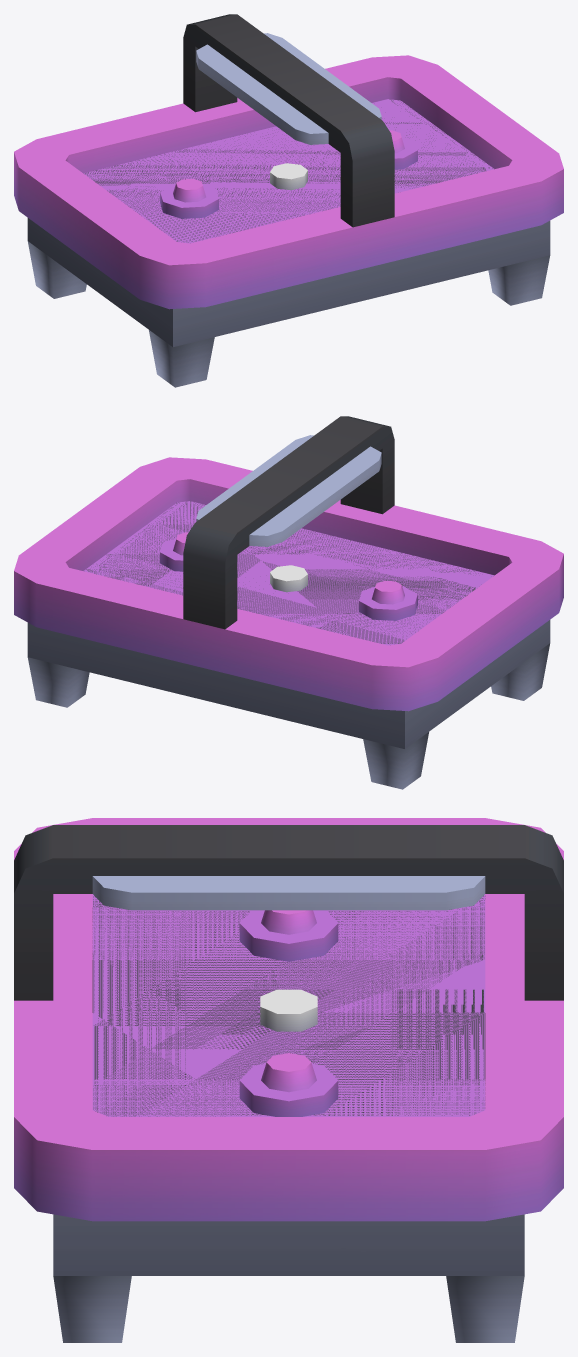
Rendered from arcade.air_hockey.glb.
The picture shows the model from 3 angles, top to bottom: view 1: azimuth 30°, elevation 25°; view 2: azimuth 150°, elevation 25°; view 3: azimuth 270°, elevation 25°; orthographic projection. The views are drawn at different scales.
Visible parts, largest first — view 1: air-hockey, player-b, puck, player-a; view 2: air-hockey, player-b, puck, player-a; view 3: air-hockey, player-a, player-b, puck.
Part boxes in pixels (x1,y1,x2,y2): air-hockey: [14, 14, 563, 387]; player-b: [160, 178, 218, 218]; puck: [270, 163, 307, 190]; player-a: [389, 130, 417, 169]; air-hockey: [14, 416, 563, 789]; player-b: [359, 580, 417, 620]; puck: [270, 565, 307, 592]; player-a: [160, 532, 188, 571]; air-hockey: [14, 818, 563, 1342]; player-a: [239, 1053, 338, 1116]; player-b: [239, 910, 338, 961]; puck: [260, 989, 317, 1031].
Size of the model in its own units: 2.48 by 1.24 by 1.74.
1 material, 1 textured.
